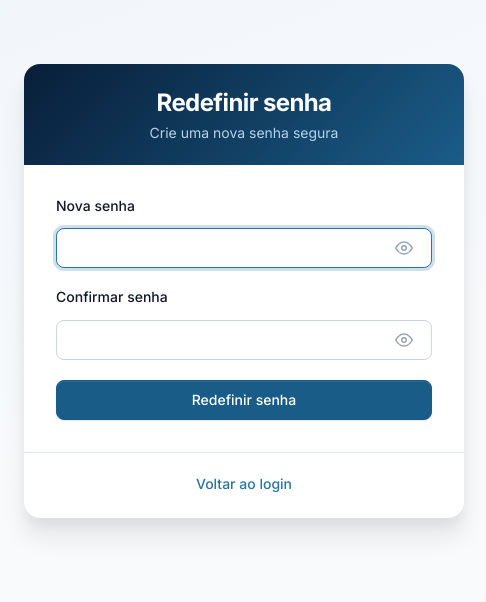
Test: ResetPasswordPage › shows inline error when passwords do not match
In the password field labelled "Nova senha": [244, 248] box left=56, top=228, right=432, bottom=268, type "Nova@Senha1"
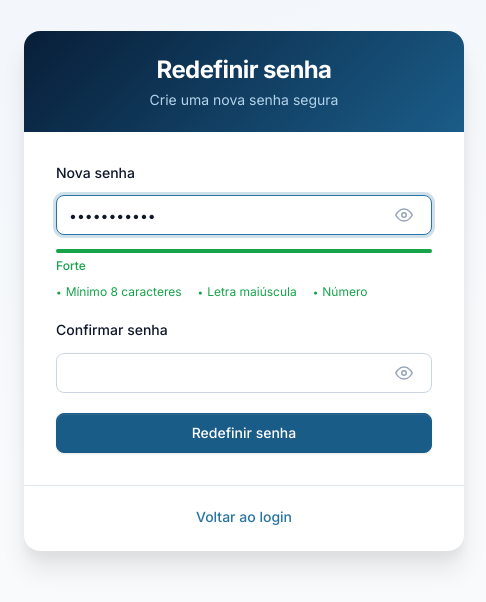
In the password field labelled "Confirmar senha": [244, 373] box left=56, top=353, right=432, bottom=393, type "Diferente@1"
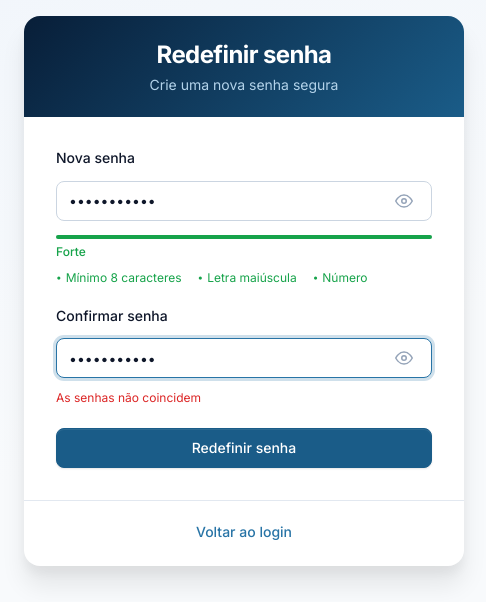
Check: the message reads "As senhas não coincidem", box left=56, top=390, right=201, bottom=405
